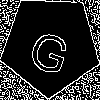G: (26, 20, 76, 77)
